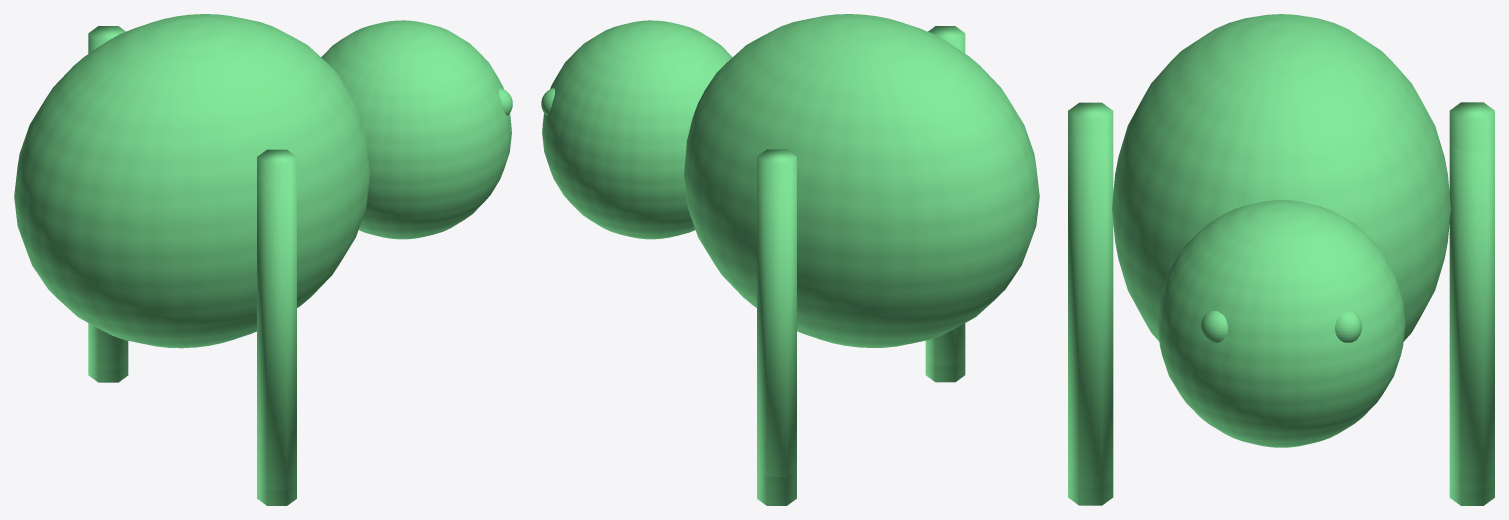
File: adhesion_bug_02.glb
The picture shows the model from 3 angles, left to right: view 1: azimuth 30°, elevation 25°; view 2: azimuth 150°, elevation 25°; view 3: azimuth 270°, elevation 25°; orthographic projection. The views are drawn at different scales.
Parts seen in each view (by area): view 1: adhesion_bug_02; view 2: adhesion_bug_02; view 3: adhesion_bug_02.
Part boxes in pixels (bbox=[...]): adhesion_bug_02: bbox=[14, 14, 512, 505]; adhesion_bug_02: bbox=[541, 14, 1039, 505]; adhesion_bug_02: bbox=[1068, 14, 1494, 505].
Size of the model in its own units: 2.7 by 2.26 by 1.89.
